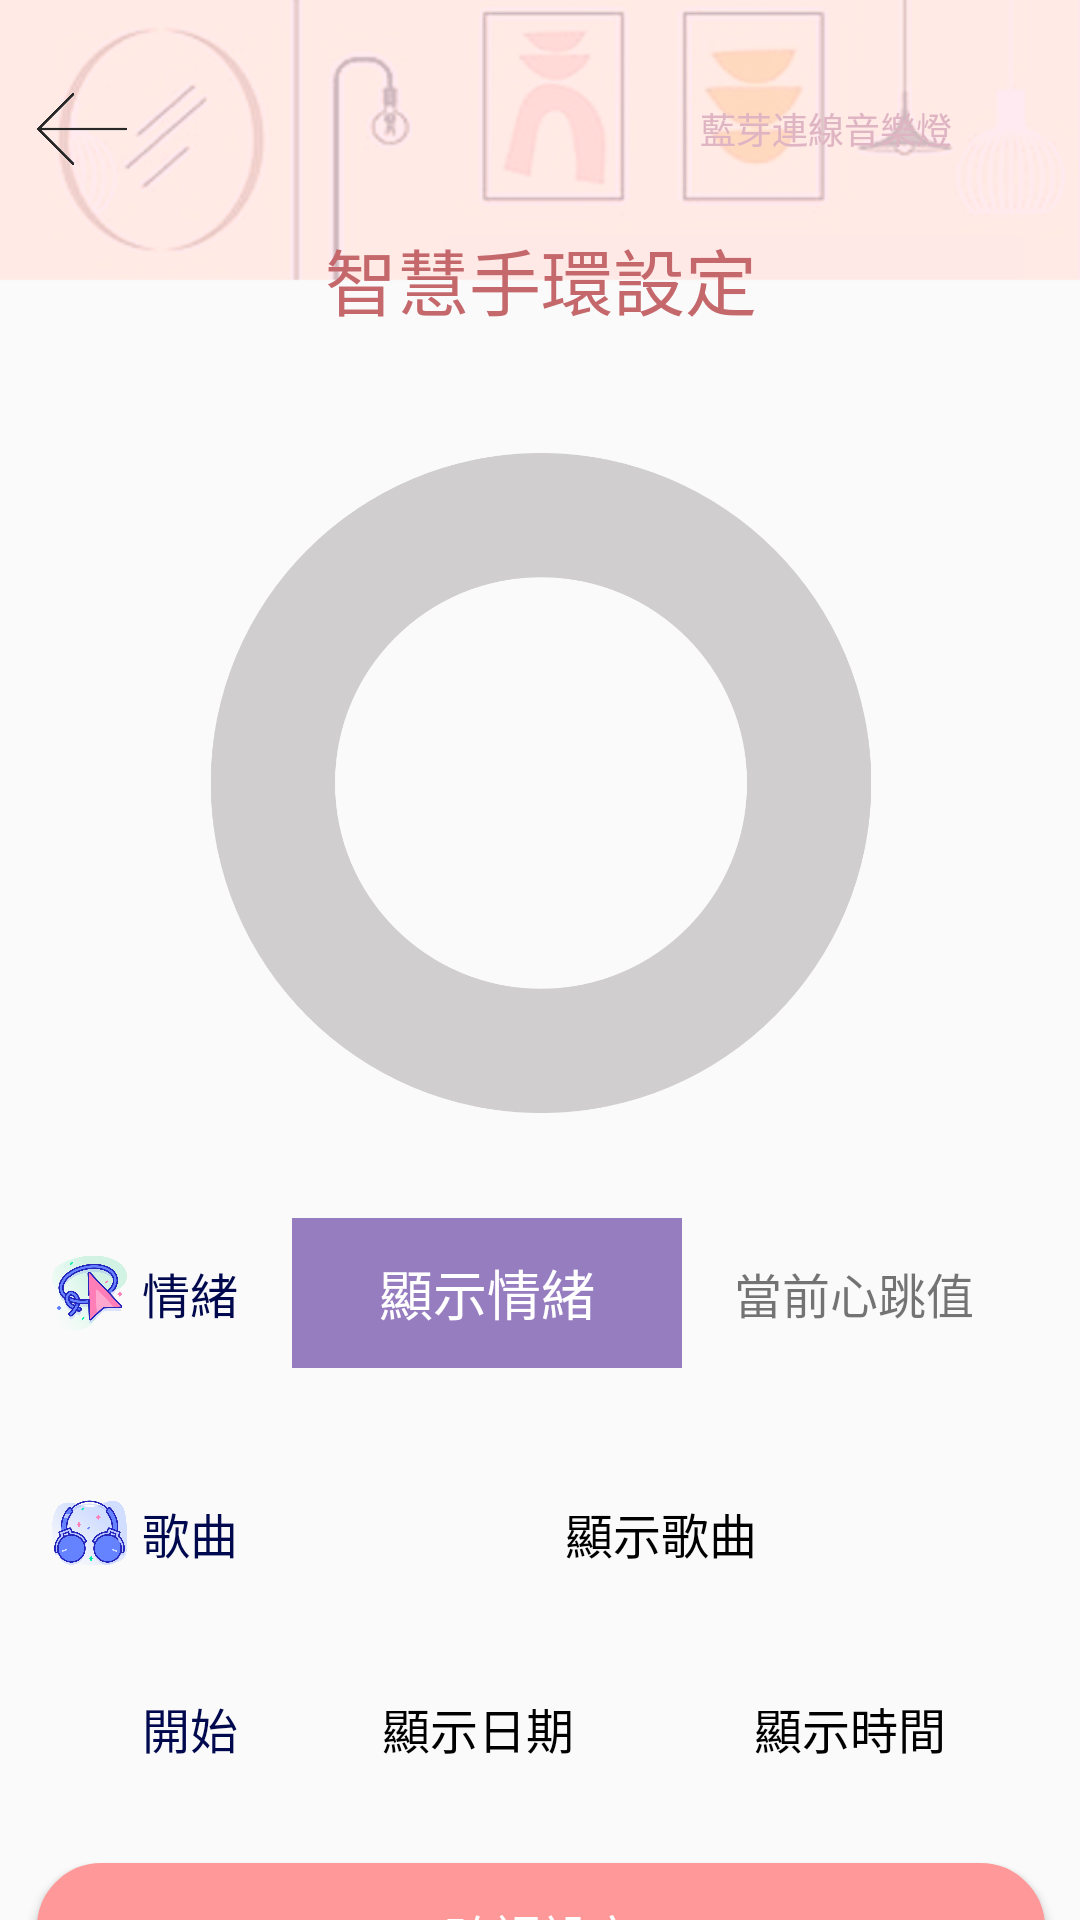

Point at icon controls on the screen. Image size 1080*1920, points as point (x, y).
back: point (82, 129)
